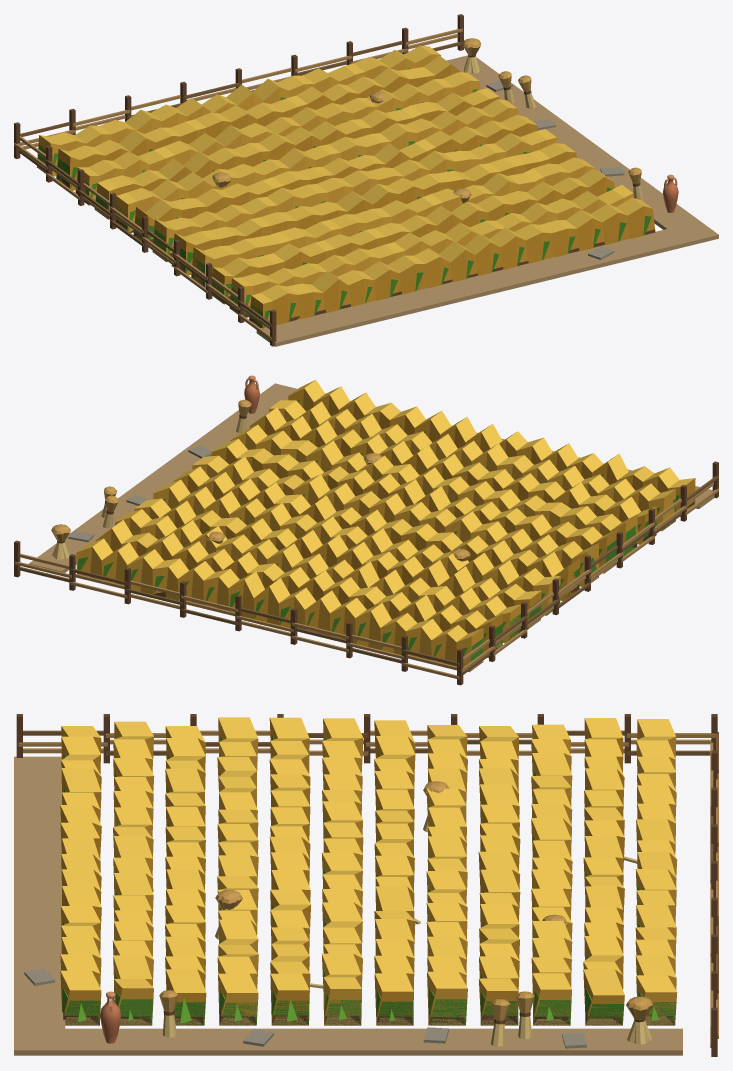
Rendered from Feld.fbx.
3 renders of one model, top to bottom at view 1: azimuth 30°, elevation 25°; view 2: azimuth 150°, elevation 25°; view 3: azimuth 270°, elevation 25°, orthographic. The views are drawn at different scales.
Parts seen in each view (by area): view 1: Feld_3, Feld_0, Feld_2, Feld_1; view 2: Feld_3, Feld_0, Feld_2; view 3: Feld_3, Feld_0, Feld_2, Feld_1.
Part boxes in pixels (x1,y1,x2,y2): Feld_3: (37, 38, 654, 328); Feld_0: (14, 14, 718, 346); Feld_2: (37, 68, 651, 328); Feld_1: (37, 166, 655, 327); Feld_3: (51, 380, 695, 672); Feld_0: (14, 375, 718, 685); Feld_2: (77, 399, 695, 670); Feld_3: (60, 717, 677, 1046); Feld_0: (14, 714, 718, 1056); Feld_2: (62, 735, 676, 1025); Feld_1: (63, 998, 674, 1025).
Size of the model in its own units: 3.56 by 0.3118 by 3.57.
